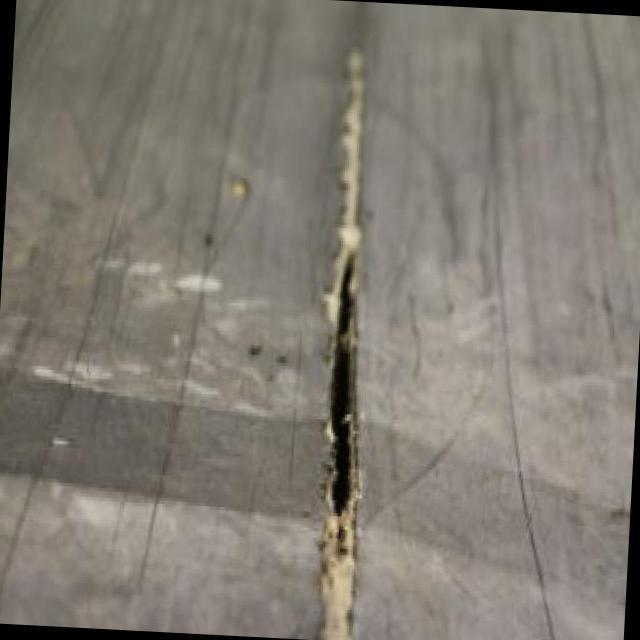Tear: (318, 246, 362, 530)
